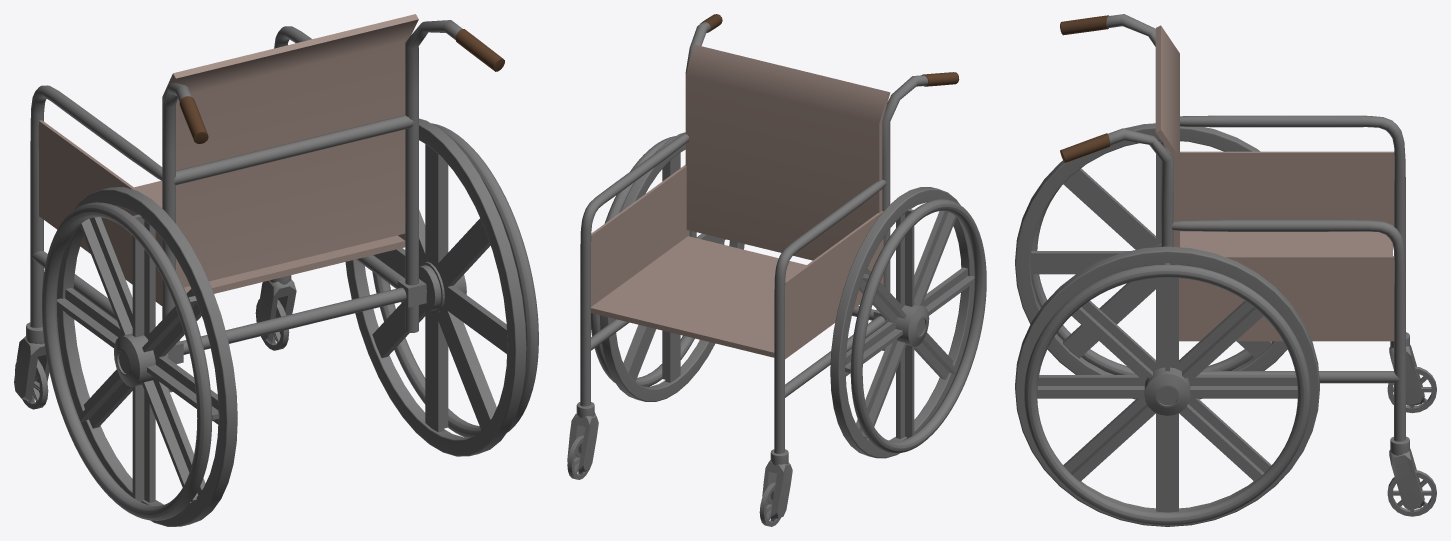
The model's file is WheelChair_v2.fbx.
3 views of the same model, side by side, from view 1: azimuth 30°, elevation 25°; view 2: azimuth 150°, elevation 25°; view 3: azimuth 270°, elevation 25° (orthographic). The views are drawn at different scales.
Visible parts, largest first — view 1: Wheel_Chair, Back_Wheels, Front_Wheels; view 2: Wheel_Chair, Back_Wheels, Front_Wheels; view 3: Back_Wheels, Wheel_Chair, Front_Wheels.
Part boxes in pixels (x1,y1,x2,y2): Wheel_Chair: (14, 14, 504, 400); Back_Wheels: (41, 118, 538, 526); Front_Wheels: (15, 299, 289, 409); Wheel_Chair: (567, 14, 959, 519); Back_Wheels: (591, 132, 986, 458); Front_Wheels: (567, 435, 781, 526); Back_Wheels: (1015, 123, 1319, 526); Wheel_Chair: (1060, 14, 1424, 510); Front_Wheels: (1387, 366, 1436, 516).
Size of the model in its own units: 55.96 by 70.02 by 68.32.
